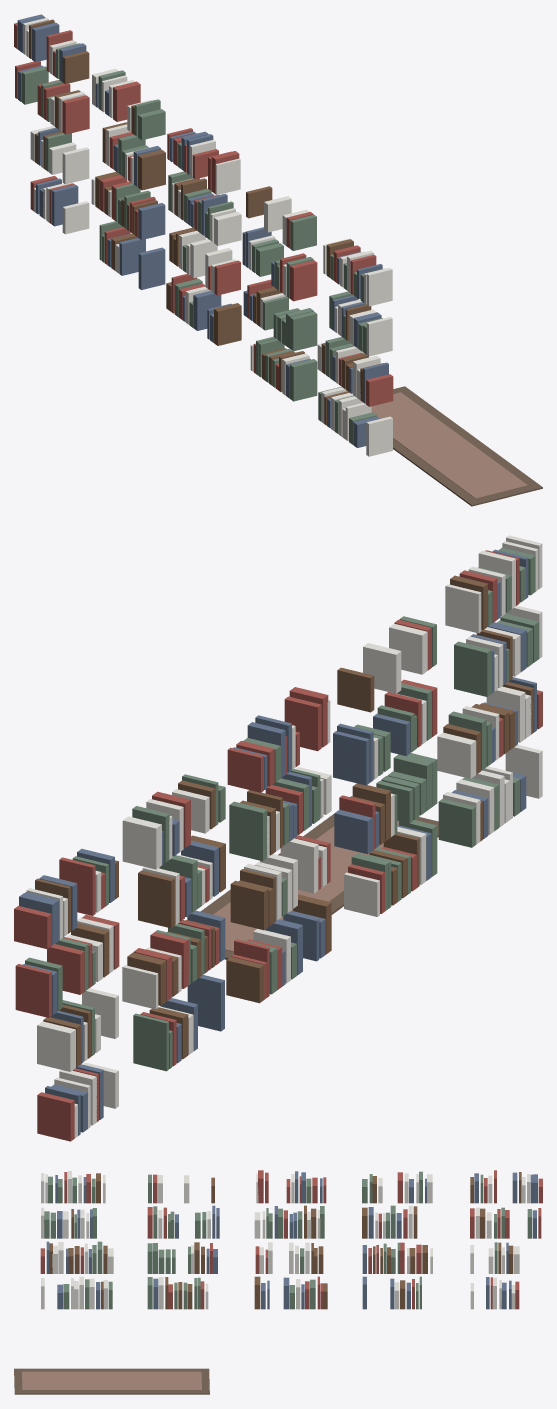
The model's file is fine-s2.glb.
3 renders of one model, top to bottom at view 1: azimuth 30°, elevation 25°; view 2: azimuth 150°, elevation 25°; view 3: azimuth 270°, elevation 25°, orthographic. The views are drawn at different scales.
Visible parts, largest first — view 1: soft-s2; view 2: soft-s2; view 3: soft-s2.
Boxes of the visible parts, x1,y1,x2,y2 form: soft-s2: (14, 14, 542, 506); soft-s2: (14, 535, 542, 1141); soft-s2: (14, 1170, 542, 1394).
Bounding box in the file's own units: 1.3 × 1.93 × 5.42.
